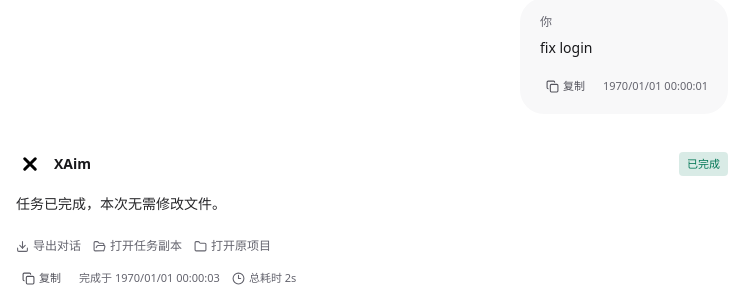
reports clipboard errors and lets the user retry
This screenshot has width=745, height=302.
Click the button with aria-label "复制输入".
click(566, 86)  # box [540,74,591,98]
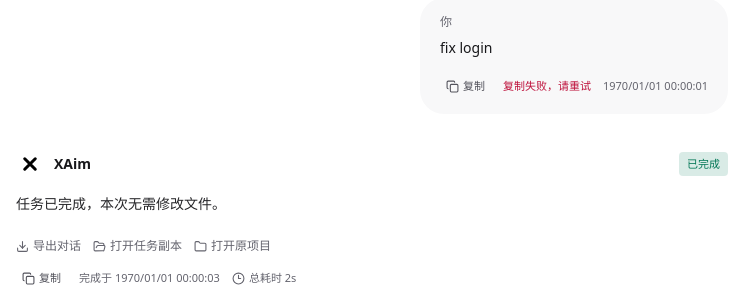
Check: the text "复制失败，请重试" is shown, box [503,76,591,96]
Click the button with aria-label "复制输入".
click(466, 86)  # box [440,74,491,98]
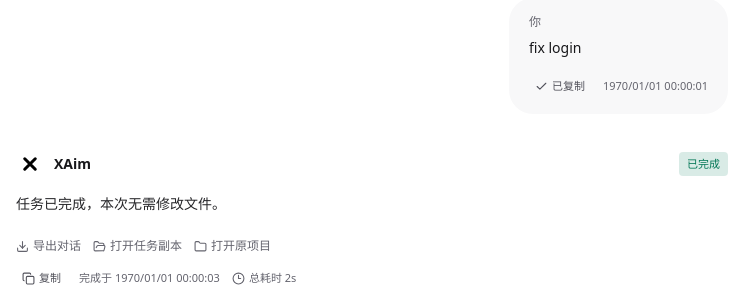
Check: the text "复制失败，请重试" is gone
